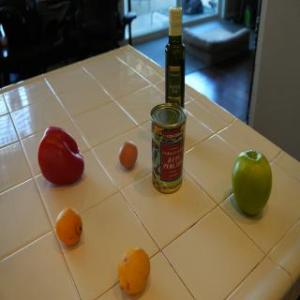bell_pepper: (31, 123, 89, 187)
egg: (117, 140, 139, 170)
